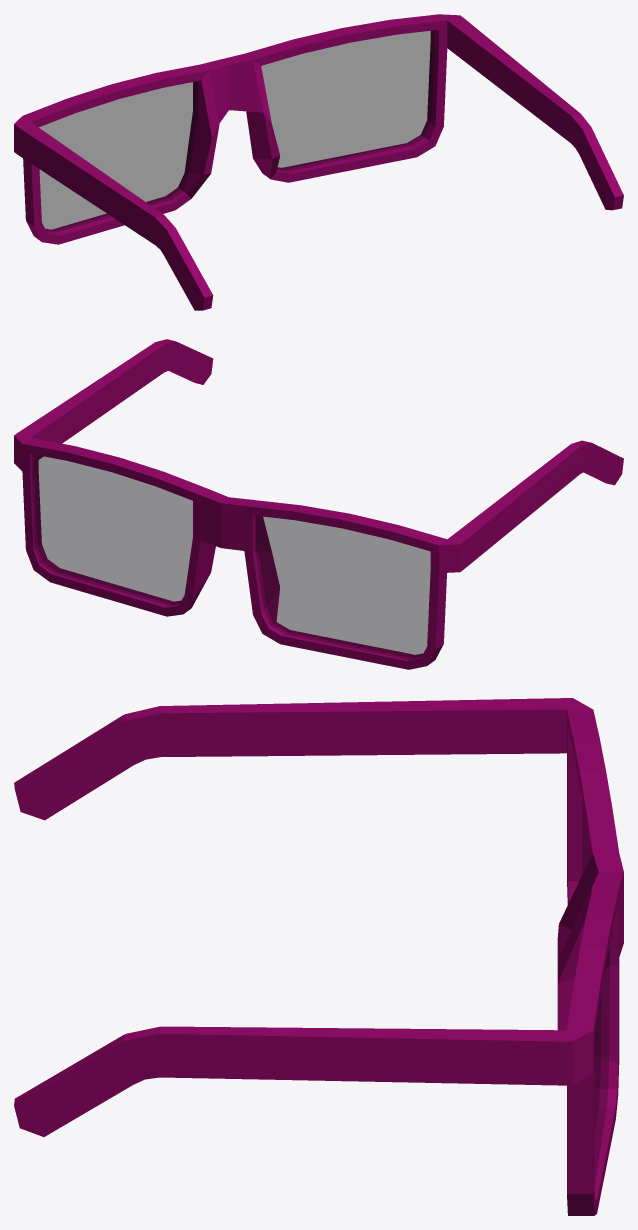
Rendered from gafasvioleta.fbx.
The picture shows the model from 3 angles, top to bottom: view 1: azimuth 30°, elevation 25°; view 2: azimuth 150°, elevation 25°; view 3: azimuth 270°, elevation 25°; orthographic projection. The views are drawn at different scales.
Visible parts, largest first — view 1: Sunglasses_Cube.001; view 2: Sunglasses_Cube.001; view 3: Sunglasses_Cube.001.
Boxes of the visible parts, left/top/right/bottom form: Sunglasses_Cube.001: left=14, top=14, right=623, bottom=310; Sunglasses_Cube.001: left=14, top=339, right=623, bottom=669; Sunglasses_Cube.001: left=14, top=698, right=623, bottom=1215.
Bounding box in the file's own units: 80.79 × 23.61 × 60.61.
